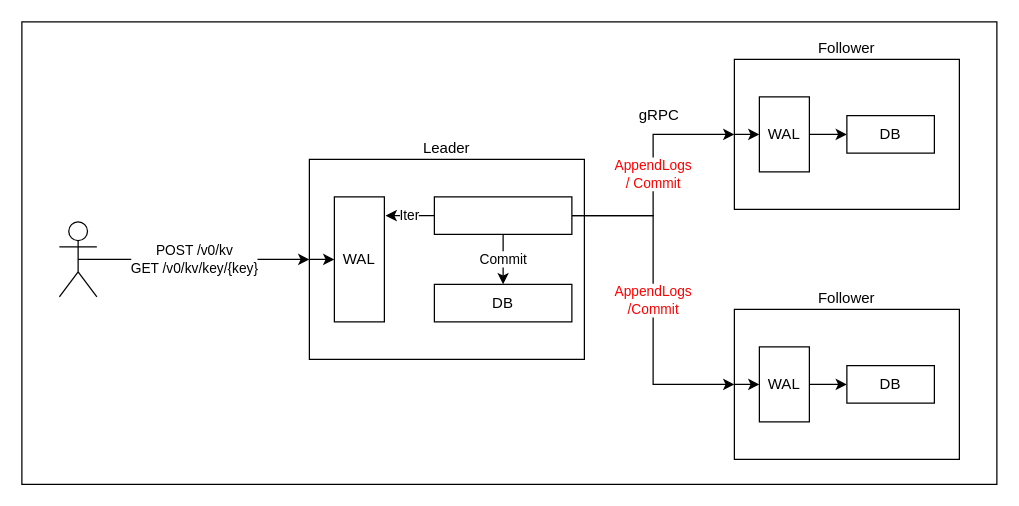
This 1019x506 diagram has some shape labels left out. Here are the shapes that lost their labels. From the top down, the box of each, then its label:
(433, 196, 572, 234): Replicator
(58, 221, 97, 297): Clients
